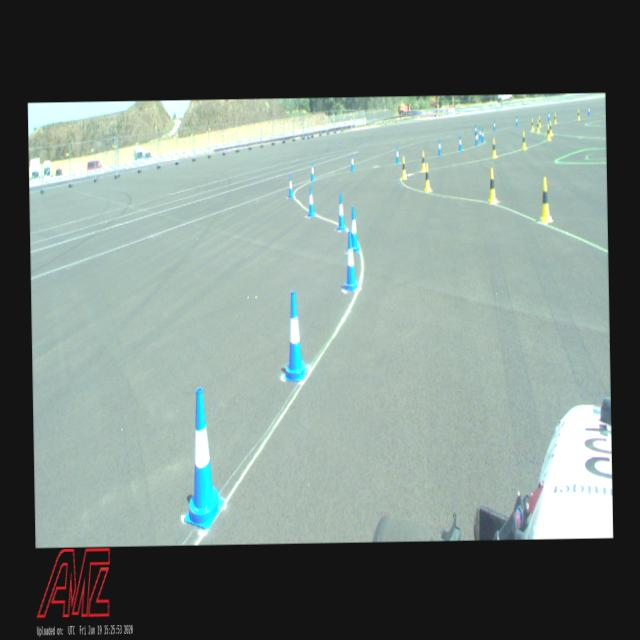blue_cone: (182, 386, 224, 530), (282, 290, 308, 381), (342, 231, 358, 290), (350, 206, 360, 252), (336, 192, 346, 231), (307, 185, 315, 216), (287, 175, 293, 198), (310, 162, 315, 180), (437, 138, 441, 156), (350, 153, 354, 171), (395, 146, 399, 163), (458, 135, 462, 151), (480, 127, 484, 142), (474, 132, 478, 146), (478, 126, 482, 139), (514, 115, 518, 126), (492, 120, 496, 130), (474, 124, 476, 136), (548, 110, 550, 122), (588, 105, 590, 116)
yellow_cone: (537, 177, 553, 222), (486, 168, 496, 202), (422, 162, 432, 192), (401, 156, 406, 178), (521, 131, 526, 149), (420, 150, 424, 172), (546, 124, 551, 140), (492, 138, 496, 158), (530, 118, 534, 131), (536, 119, 540, 132), (553, 112, 557, 124), (549, 121, 552, 136), (577, 109, 580, 120), (538, 115, 541, 126)
